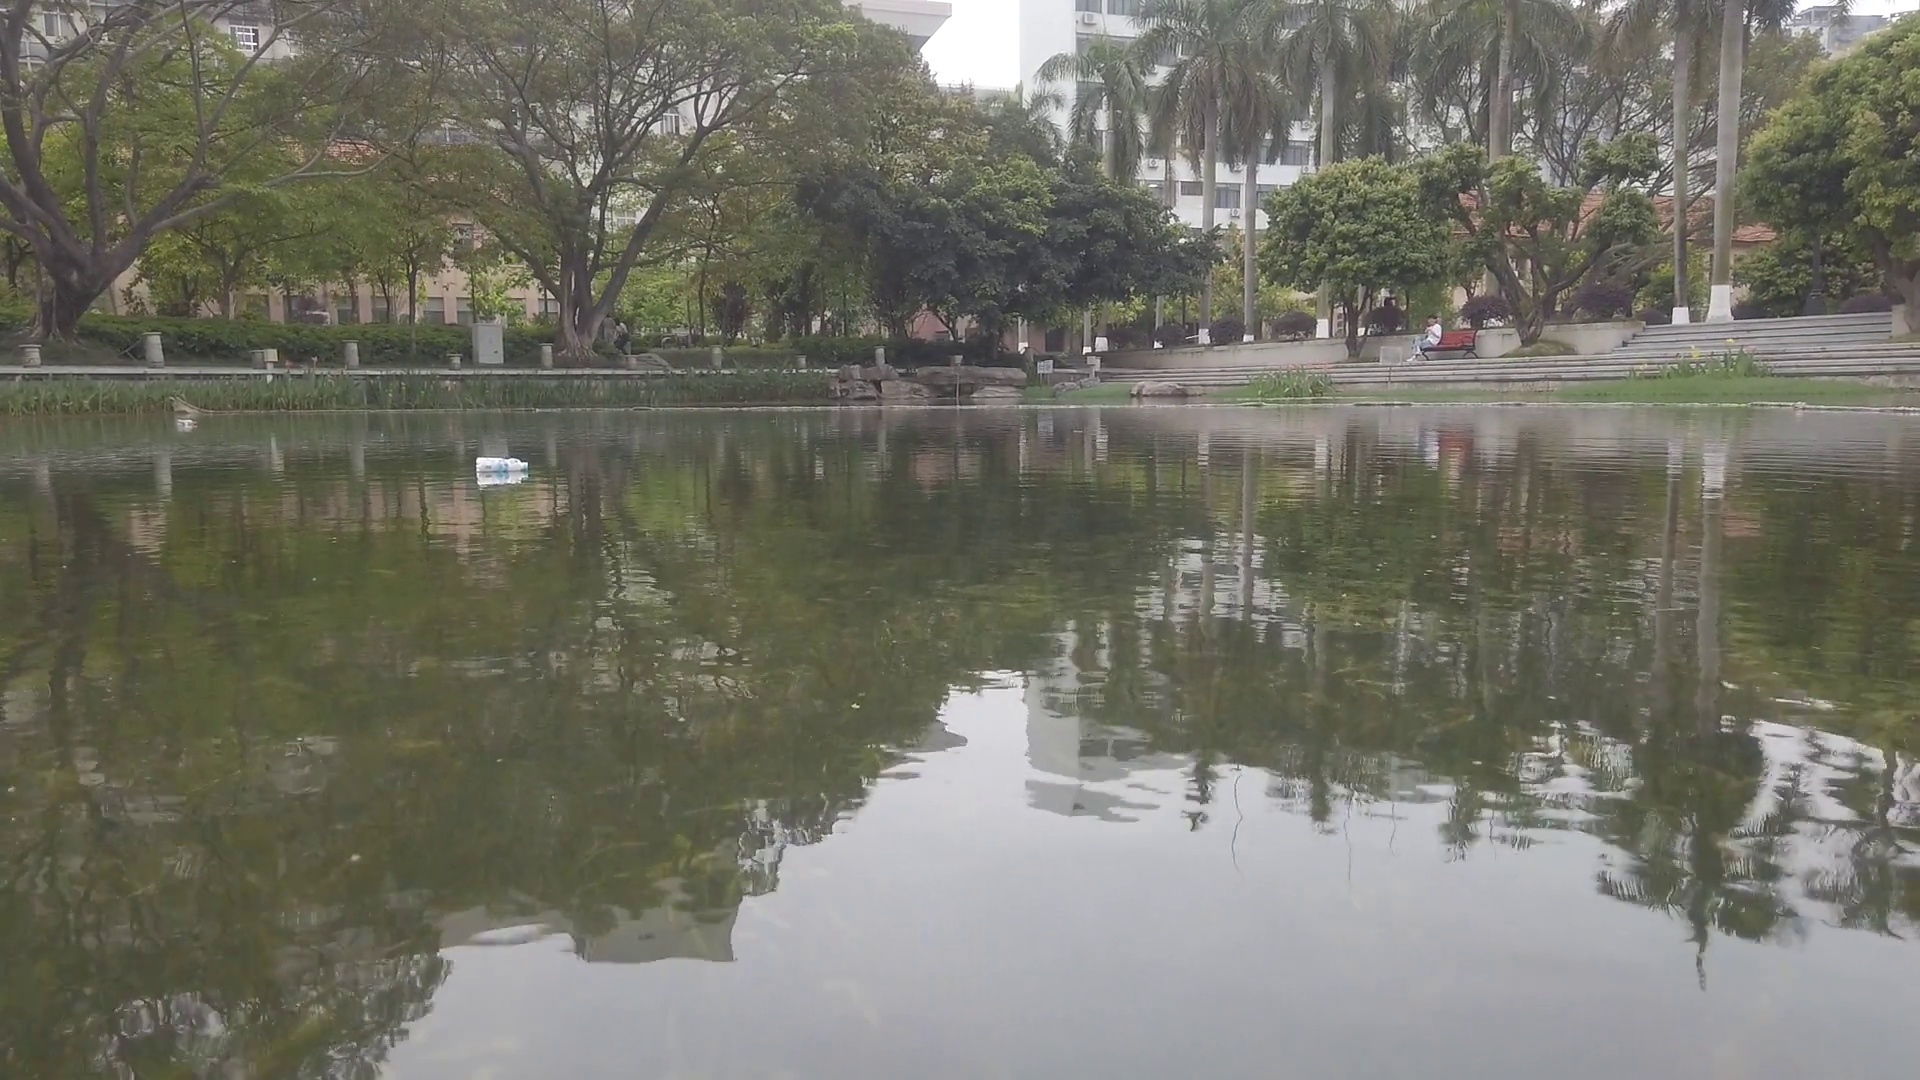bottle: (475, 456, 531, 472), (174, 417, 196, 429)
